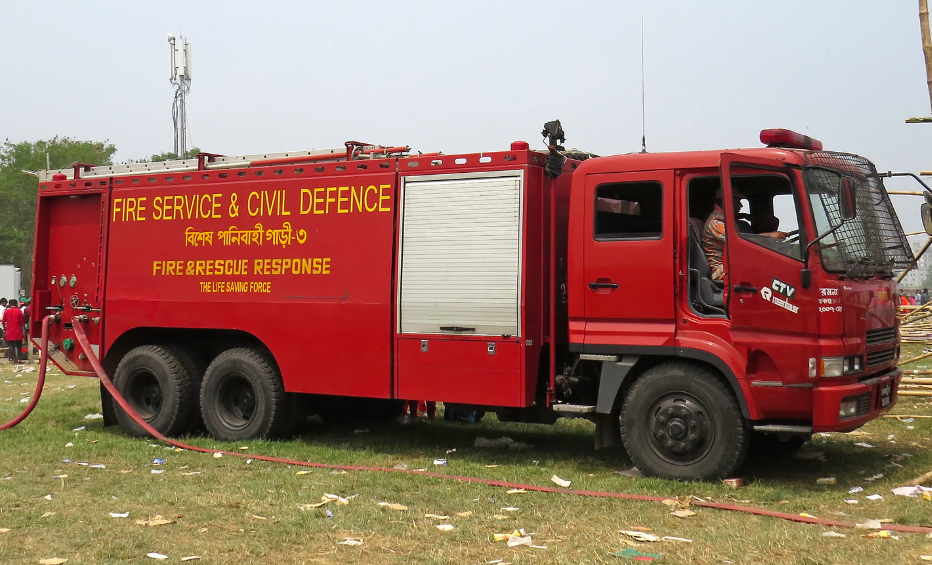Fire truck: (17, 115, 918, 485)
